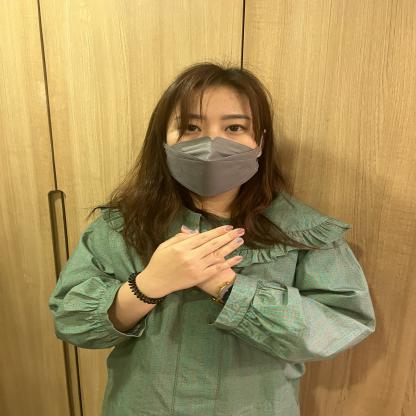Grieve: (54, 200, 369, 358)
